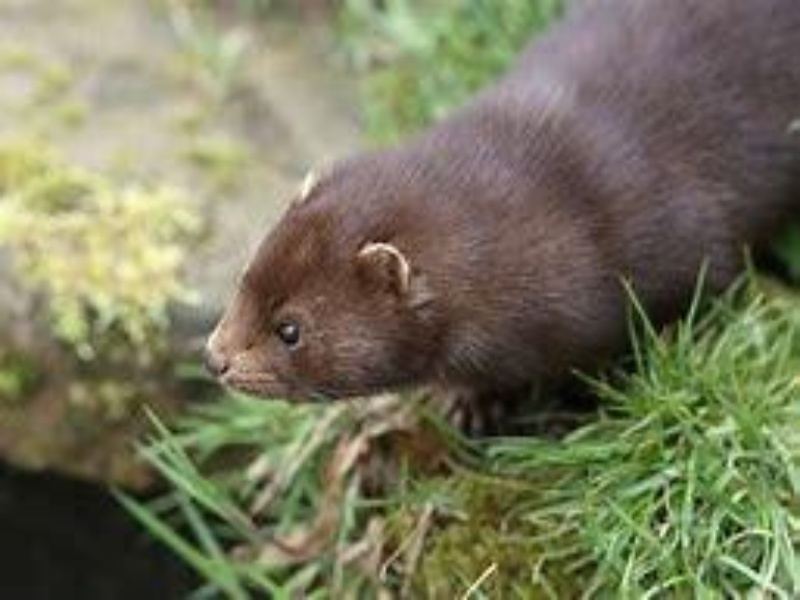minkish: (198, 4, 794, 439)
